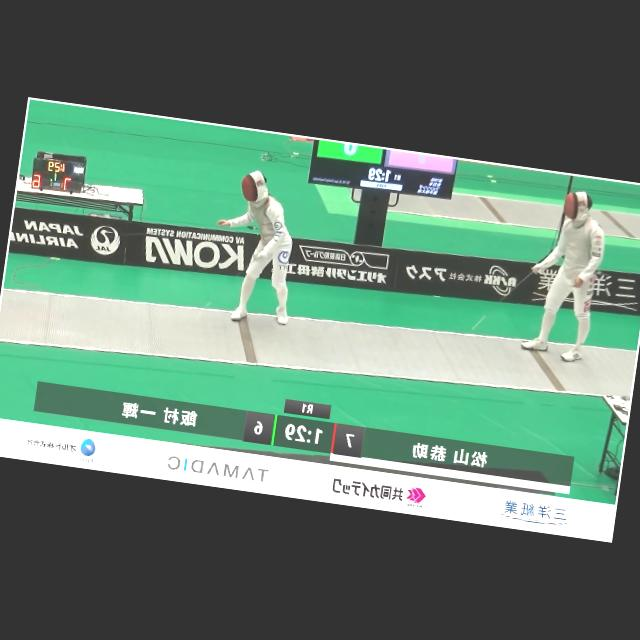blade: (469, 256, 543, 341), (200, 243, 267, 318)
